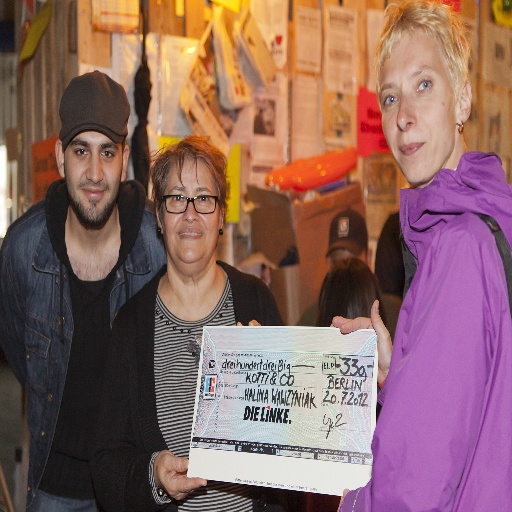hand: (330, 297, 393, 380), (146, 447, 191, 506), (235, 316, 261, 325)
